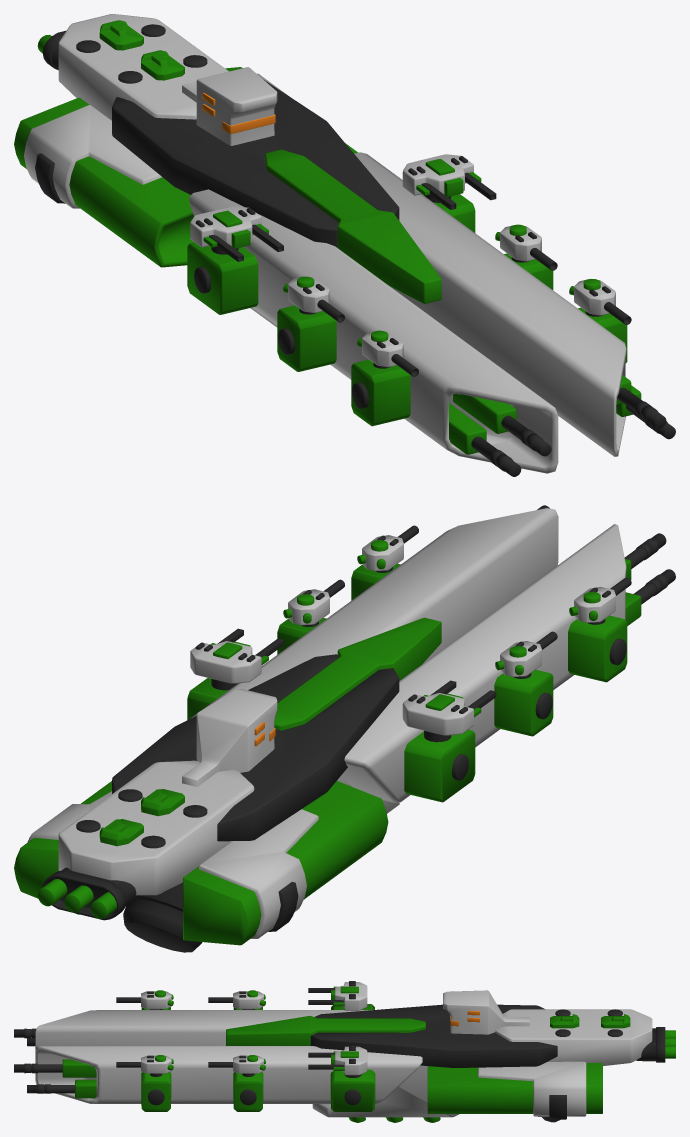
3 views of the same model, one above another, from view 1: azimuth 30°, elevation 25°; view 2: azimuth 150°, elevation 25°; view 3: azimuth 270°, elevation 25° (orthographic). The views are drawn at different scales.
Visible parts, largest first — view 1: Destroyer_3.002; view 2: Destroyer_3.002; view 3: Destroyer_3.002.
Part boxes in pixels (<box>): Destroyer_3.002: <box>14,14,675,476</box>; Destroyer_3.002: <box>14,505,675,952</box>; Destroyer_3.002: <box>14,981,675,1122</box>.
Size of the model in its own units: 21.99 by 15.27 by 74.22.
